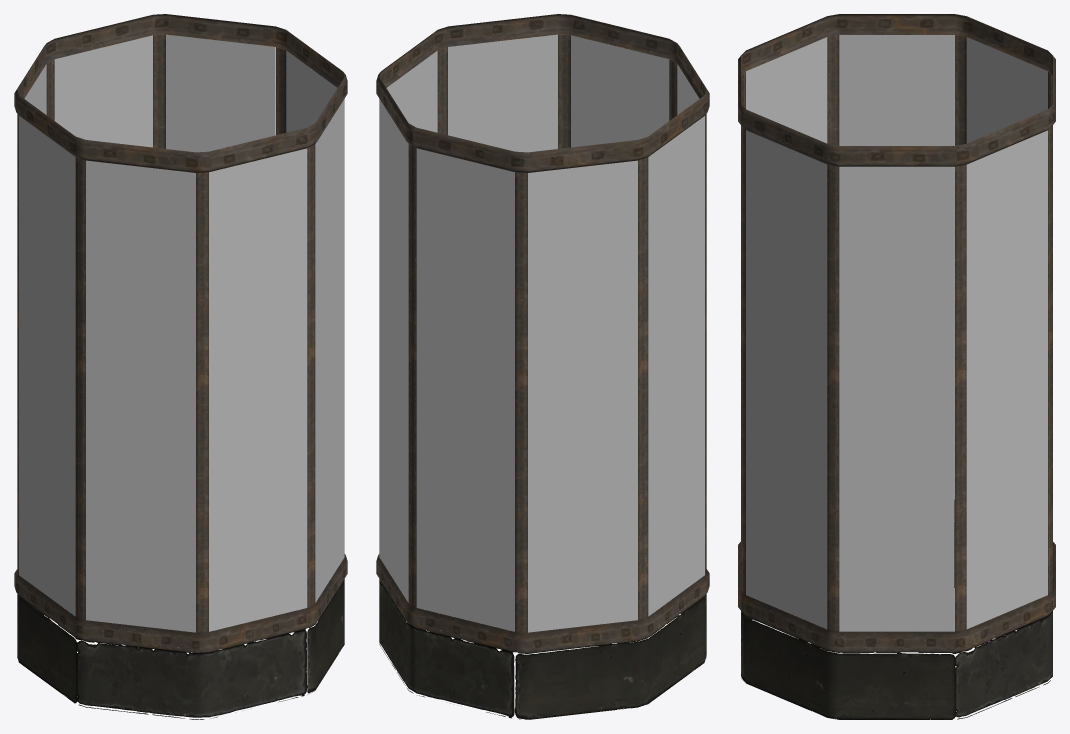
3 views of the same model, side by side, from view 1: azimuth 30°, elevation 25°; view 2: azimuth 150°, elevation 25°; view 3: azimuth 270°, elevation 25° (orthographic).
Parts seen in each view (by area): view 1: SM_Dowdun_Corner_Turret_07_LOD0; view 2: SM_Dowdun_Corner_Turret_07_LOD0; view 3: SM_Dowdun_Corner_Turret_07_LOD0.
Part boxes in pixels (x1,y1,x2,y2): SM_Dowdun_Corner_Turret_07_LOD0: (14,14,347,719); SM_Dowdun_Corner_Turret_07_LOD0: (376,14,709,719); SM_Dowdun_Corner_Turret_07_LOD0: (738,14,1055,719).
Bounding box in the file's own units: 6.02 × 12 × 6.02.
2 materials, 1 textured.
